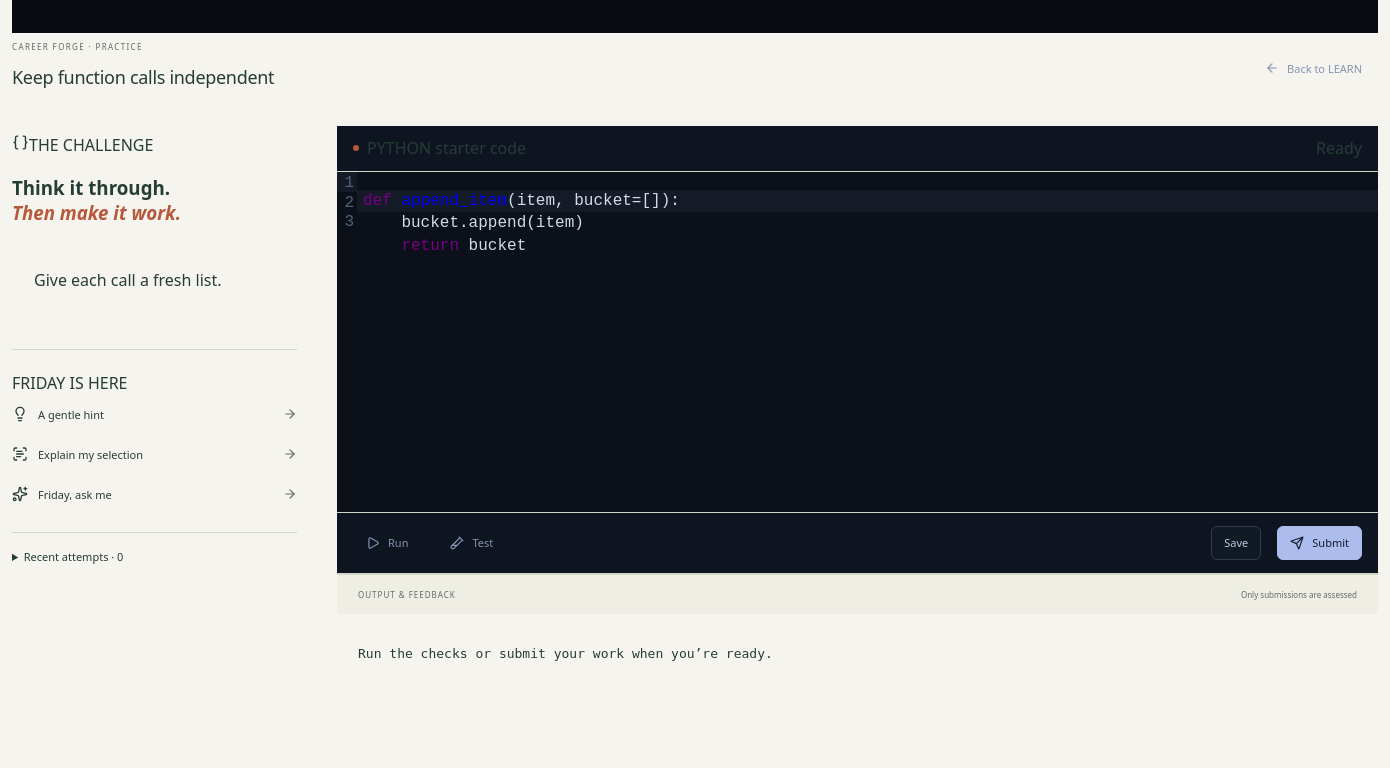
it: Practice Lab entry state › presents a real practice task plainly and shows failed test output without submitting evidence
Click the button "Test". click: coordinates (472, 543)
box: x1=438 y1=526 x2=506 y2=560
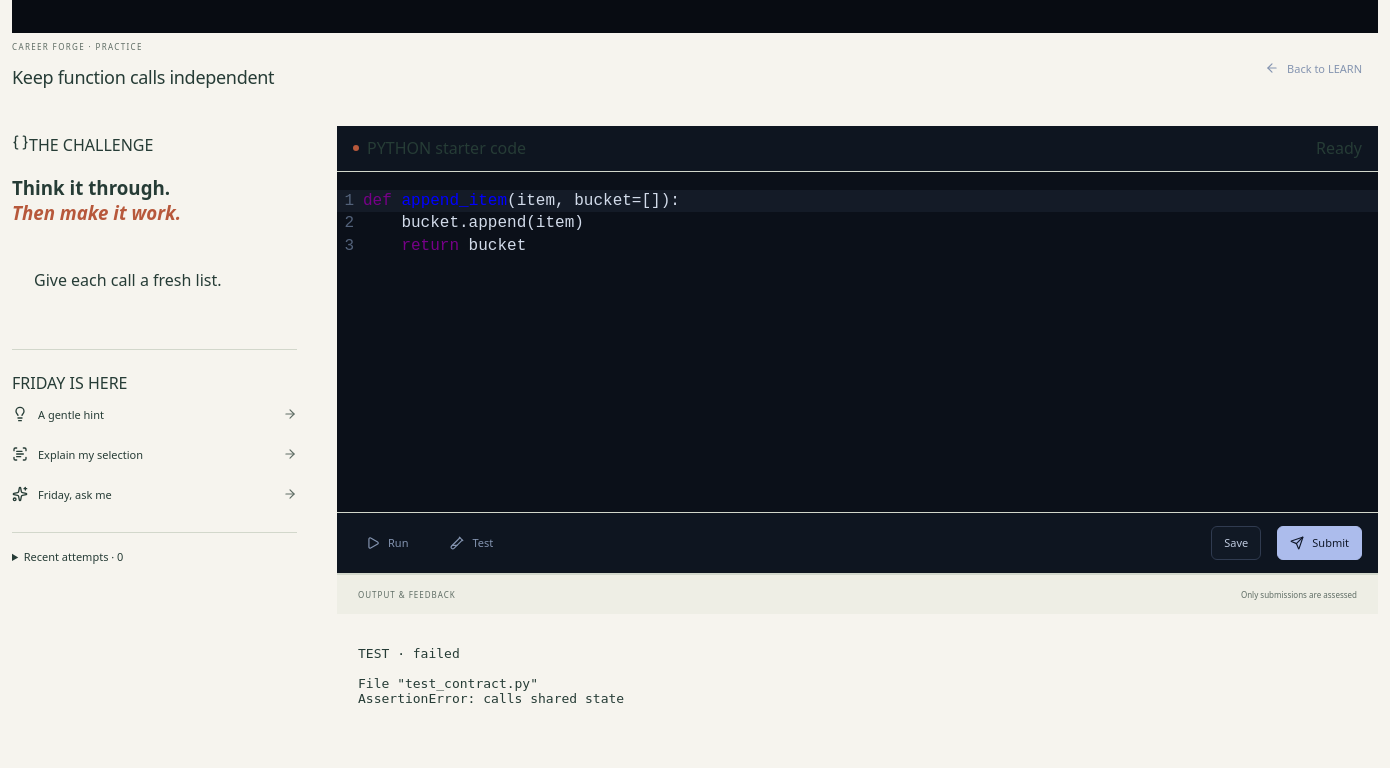
Expected: the text "TEST · failed" is shown, x1=358 y1=646 x2=624 y2=706
Expected: the text "AssertionError: calls shared state" is shown, x1=358 y1=646 x2=624 y2=706
Expected: the text "test_contract.py" is shown, x1=358 y1=646 x2=624 y2=706
